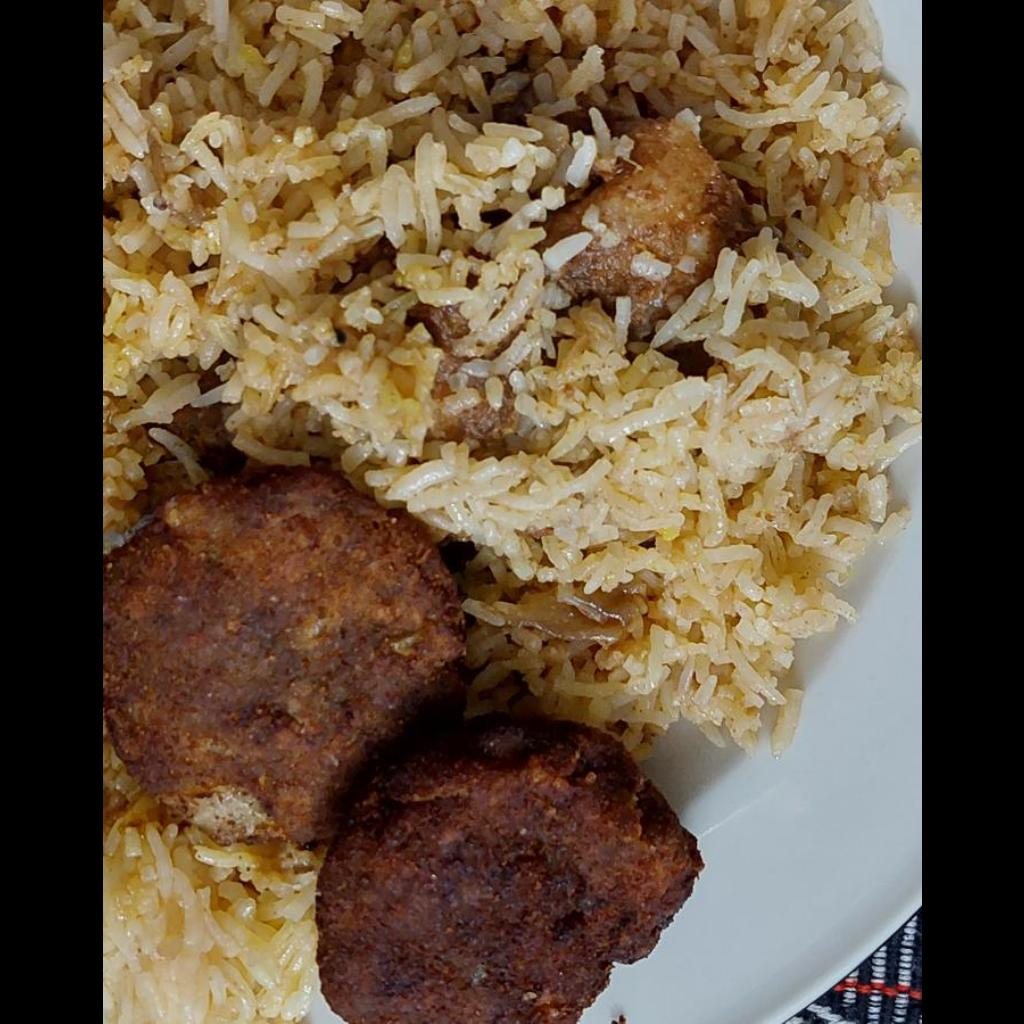biriyani: (102, 0, 920, 754), (102, 790, 318, 1023)
kabab: (107, 486, 702, 1023)
